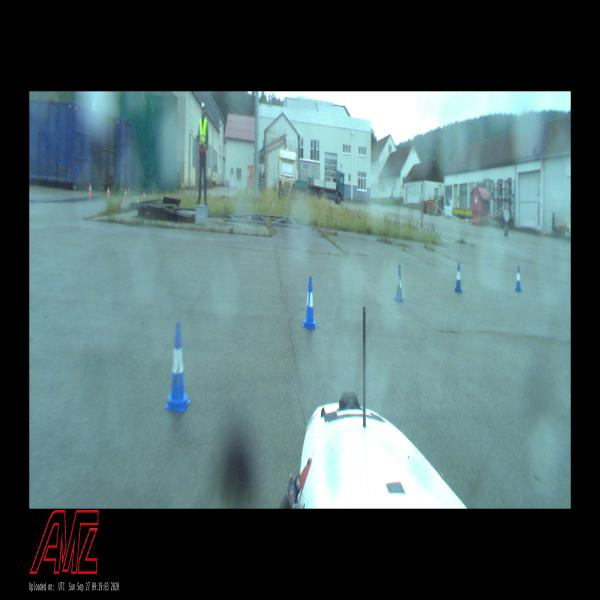blue_cone: (165, 321, 191, 413), (302, 276, 317, 331), (394, 264, 404, 303), (455, 262, 462, 294), (515, 265, 522, 292)
orange_cone: (88, 183, 92, 195), (107, 186, 110, 198), (124, 188, 127, 199), (143, 190, 146, 199)
